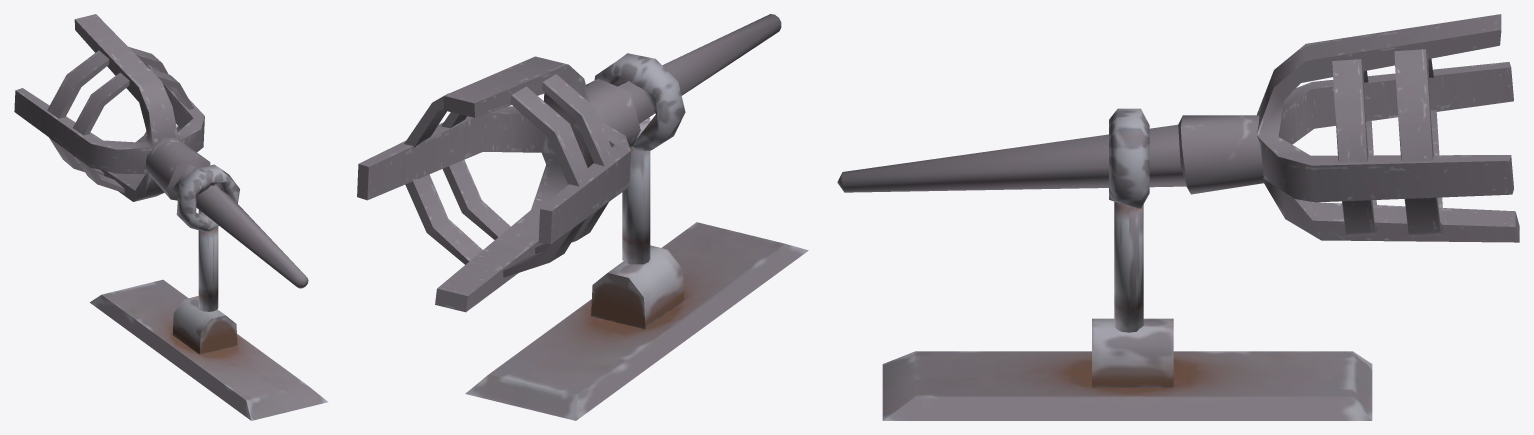
File: fp-torch-metal-lod2.glb
3 views of the same model, side by side, from view 1: azimuth 30°, elevation 25°; view 2: azimuth 150°, elevation 25°; view 3: azimuth 270°, elevation 25° (orthographic). The views are drawn at different scales.
Parts seen in each view (by area): view 1: WeaponMesh_fp-torch-metal_Torch_Metal; view 2: WeaponMesh_fp-torch-metal_Torch_Metal; view 3: WeaponMesh_fp-torch-metal_Torch_Metal.
Boxes of the visible parts, x1=… form: WeaponMesh_fp-torch-metal_Torch_Metal: x1=14, y1=14, x2=328, y2=420; WeaponMesh_fp-torch-metal_Torch_Metal: x1=357, y1=14, x2=808, y2=420; WeaponMesh_fp-torch-metal_Torch_Metal: x1=837, y1=14, x2=1519, y2=420.
Bounding box in the file's own units: 0.4476 × 0.779 × 1.3.
1 material, 1 textured.
